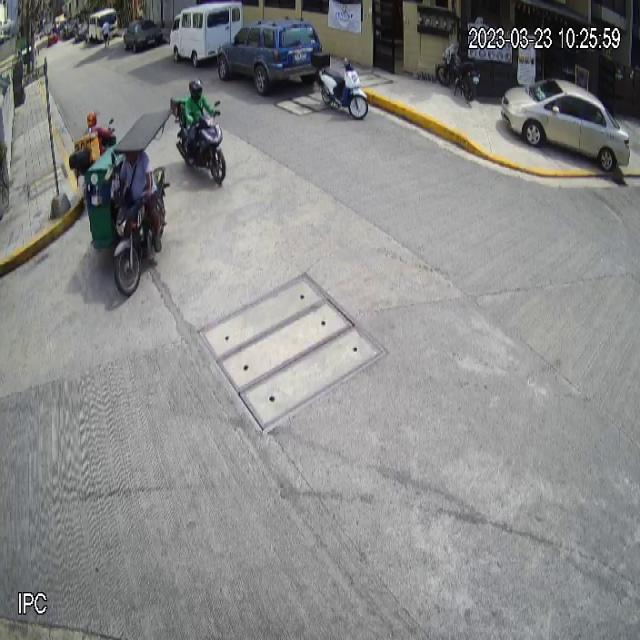Car: (500, 76, 630, 173), (215, 15, 322, 93)
Motorcycle: (311, 51, 368, 120)
Tricycle: (84, 108, 174, 296)
Van: (170, 0, 244, 67)
